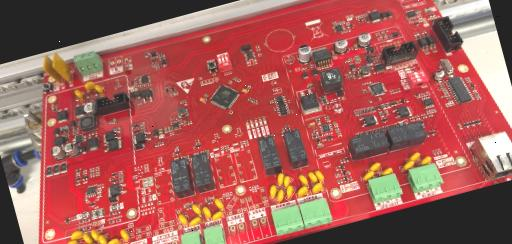var: (40, 52, 66, 90), (51, 49, 76, 88), (69, 229, 85, 241), (296, 185, 310, 198), (310, 181, 324, 194), (306, 170, 318, 185), (190, 202, 202, 217), (360, 170, 376, 181), (82, 231, 95, 244), (408, 151, 422, 163), (368, 161, 382, 173), (177, 212, 189, 226), (274, 172, 286, 186), (313, 169, 325, 183), (284, 184, 296, 198), (274, 188, 286, 202), (90, 228, 102, 242), (94, 83, 106, 97), (74, 88, 86, 102), (401, 160, 416, 171), (83, 80, 96, 92), (418, 155, 432, 166), (298, 172, 309, 186), (213, 197, 224, 211), (188, 215, 202, 226), (119, 228, 130, 242), (210, 210, 224, 221), (202, 205, 212, 220), (268, 184, 278, 198), (282, 174, 292, 188), (97, 233, 109, 244), (380, 166, 392, 176), (105, 237, 120, 244), (64, 238, 80, 244), (84, 241, 100, 244)
